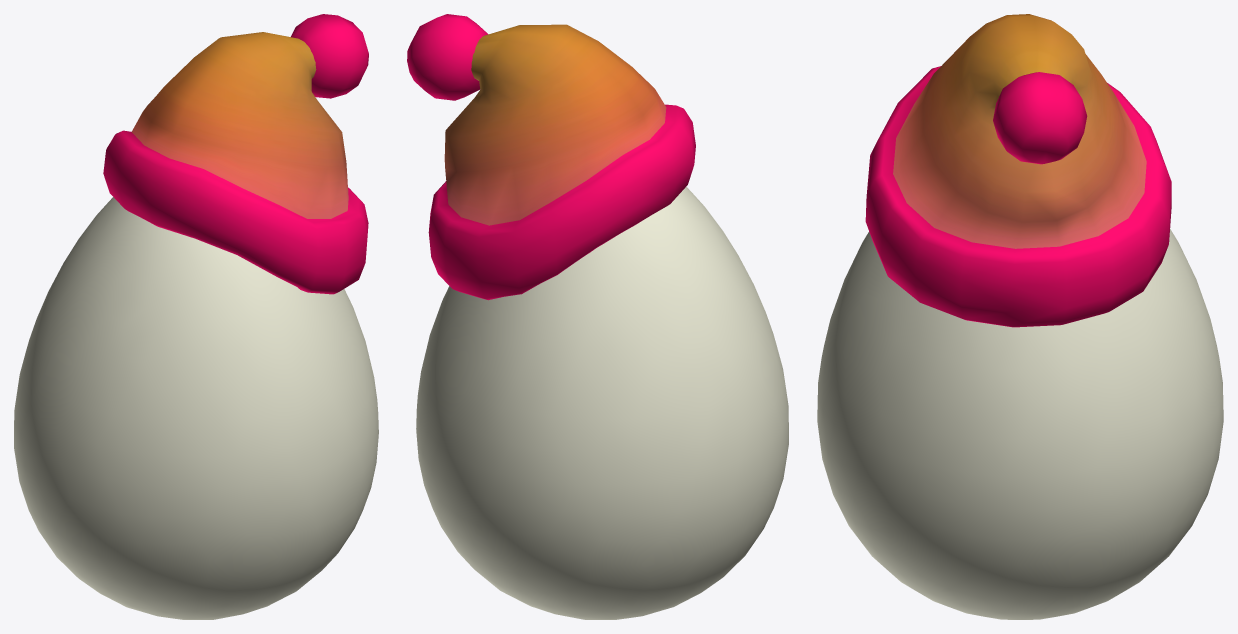
Rendered from santaegg_compressed.glb.
3 views of the same model, side by side, from view 1: azimuth 30°, elevation 25°; view 2: azimuth 150°, elevation 25°; view 3: azimuth 270°, elevation 25° (orthographic). The views are drawn at different scales.
Parts seen in each view (by area): view 1: Icosphere, Gorro_navidad; view 2: Icosphere, Gorro_navidad; view 3: Icosphere, Gorro_navidad.
Part boxes in pixels (<box>): Icosphere: <box>14,197,378,619</box>; Gorro_navidad: <box>103,14,368,294</box>; Icosphere: <box>416,186,788,619</box>; Gorro_navidad: <box>407,14,695,300</box>; Icosphere: <box>817,229,1223,619</box>; Gorro_navidad: <box>865,14,1171,327</box>.
Bounding box in the file's own units: 1.59 × 2.48 × 1.51.
2 materials, 1 textured.
